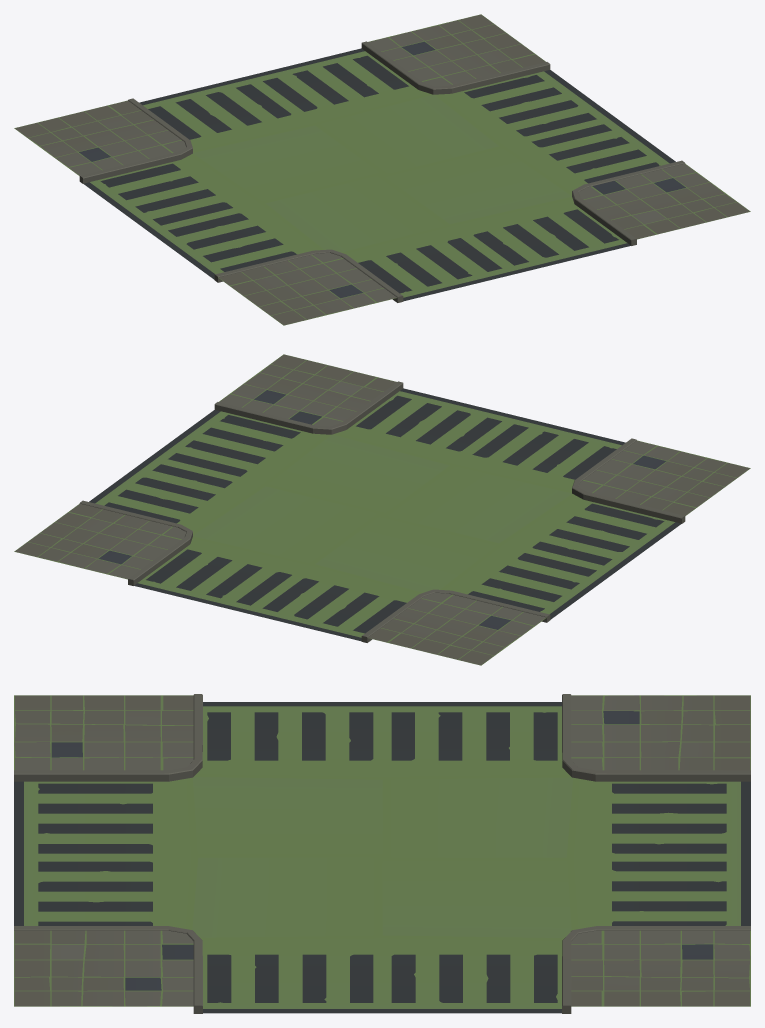
The model's file is Road_27.fbx.
3 renders of one model, top to bottom at view 1: azimuth 30°, elevation 25°; view 2: azimuth 150°, elevation 25°; view 3: azimuth 270°, elevation 25°, orthographic. The views are drawn at different scales.
Parts seen in each view (by area): view 1: Road_27; view 2: Road_27; view 3: Road_27.
Part boxes in pixels (x1,y1,x2,y2): Road_27: (14,14,750,325); Road_27: (14,354,750,665); Road_27: (14,694,750,1013).
Size of the model in its own units: 12 by 0.15 by 12.
